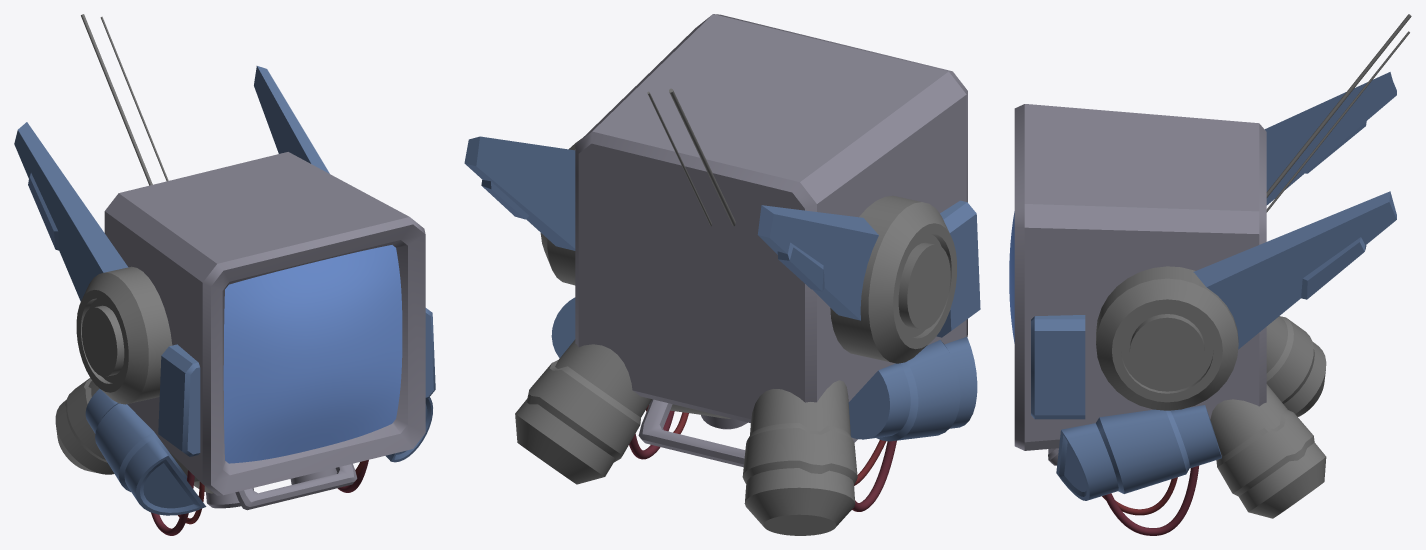
File: Robot.fbx
3 renders of one model, left to right at view 1: azimuth 30°, elevation 25°; view 2: azimuth 150°, elevation 25°; view 3: azimuth 270°, elevation 25°, orthographic. The views are drawn at different scales.
Visible parts, largest first — view 1: Cube.004, Plane.001, Cylinder.007, Cube.005, Cylinder.009, Cube.006, Cylinder.010, Cube.007, Cylinder.011, Cylinder.012, BezierCurve.002; view 2: Cube.004, Cylinder.010, Cube.005, Cylinder.007, Cylinder.009, Cube.006, Cube.007, BezierCurve.002, Cylinder.012; view 3: Cube.004, Cube.005, Cylinder.007, Cylinder.010, Cylinder.009, Cube.006, BezierCurve.002, Cylinder.012, Cylinder.013, Plane.001, BezierCurve.003.
Boxes of the visible parts, x1,y1,x2,y2 form: Cube.004: (104, 152, 425, 495); Plane.001: (223, 245, 402, 463); Cylinder.007: (76, 266, 172, 404); Cube.005: (14, 66, 329, 301); Cylinder.009: (85, 388, 432, 515); Cube.006: (158, 308, 435, 456); Cylinder.010: (55, 378, 114, 474); Cube.007: (235, 463, 357, 510); Cylinder.011: (206, 468, 337, 508); Cylinder.012: (81, 14, 152, 185); BezierCurve.002: (151, 460, 368, 535); Cube.004: (575, 14, 967, 423); Cylinder.010: (515, 339, 857, 535); Cube.005: (464, 136, 878, 320); Cylinder.007: (540, 138, 956, 363); Cylinder.009: (551, 297, 977, 441); Cube.006: (936, 200, 980, 337); Cube.007: (638, 399, 745, 467); BezierCurve.002: (629, 410, 896, 511); Cylinder.012: (669, 88, 735, 226); Cube.004: (1014, 104, 1266, 450); Cube.005: (1193, 72, 1396, 349); Cylinder.007: (1096, 266, 1238, 410); Cylinder.010: (1210, 316, 1326, 518); Cylinder.009: (1056, 405, 1221, 500); Cube.006: (1031, 315, 1085, 419); BezierCurve.002: (1104, 465, 1198, 535); Cylinder.012: (1266, 14, 1411, 197); Cylinder.013: (1266, 31, 1409, 212); Plane.001: (1009, 211, 1014, 343); BezierCurve.003: (1102, 477, 1177, 515).
Bounding box in the file's own units: 290 × 390 × 317.
